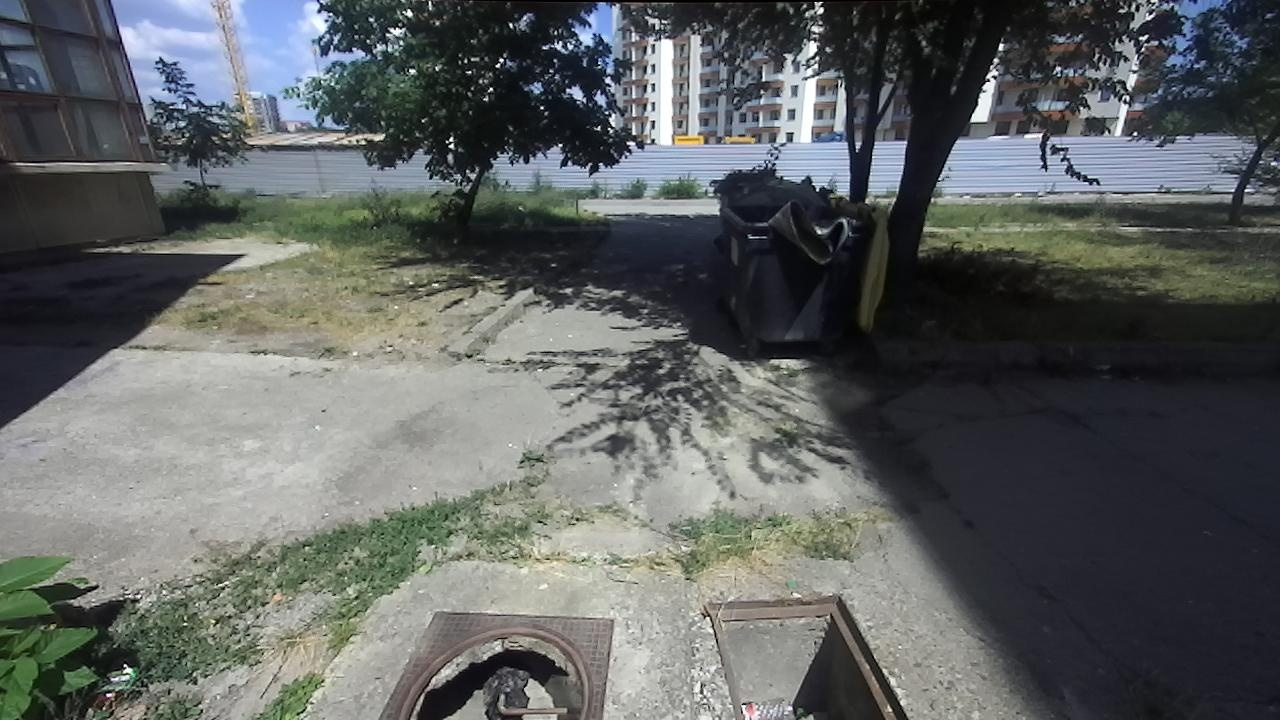drain: (703, 588, 911, 719), (391, 623, 591, 719)
